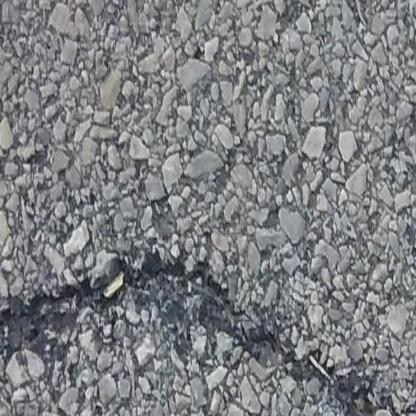Cracks: (0, 257, 386, 416)
